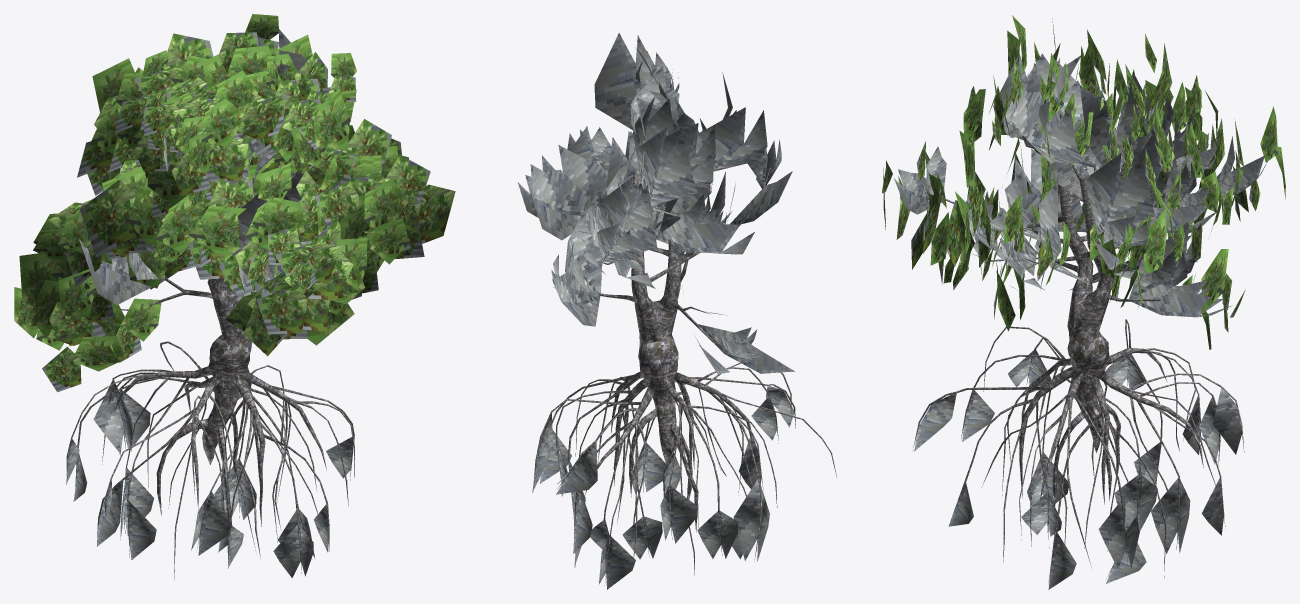
File: RedMangrove 2-transformed.glb
3 views of the same model, side by side, from view 1: azimuth 30°, elevation 25°; view 2: azimuth 150°, elevation 25°; view 3: azimuth 270°, elevation 25° (orthographic). The views are drawn at different scales.
Visible parts, largest first — view 1: RedMangrove 2_LOD0; view 2: RedMangrove 2_LOD0; view 3: RedMangrove 2_LOD0.
Part boxes in pixels (x1=…): RedMangrove 2_LOD0: x1=14, y1=14, x2=455, y2=579; RedMangrove 2_LOD0: x1=517, y1=33, x2=836, y2=589; RedMangrove 2_LOD0: x1=882, y1=15, x2=1285, y2=589.
Size of the model in its own units: 7.65 by 11.24 by 7.69.
2 materials, 2 textured.
